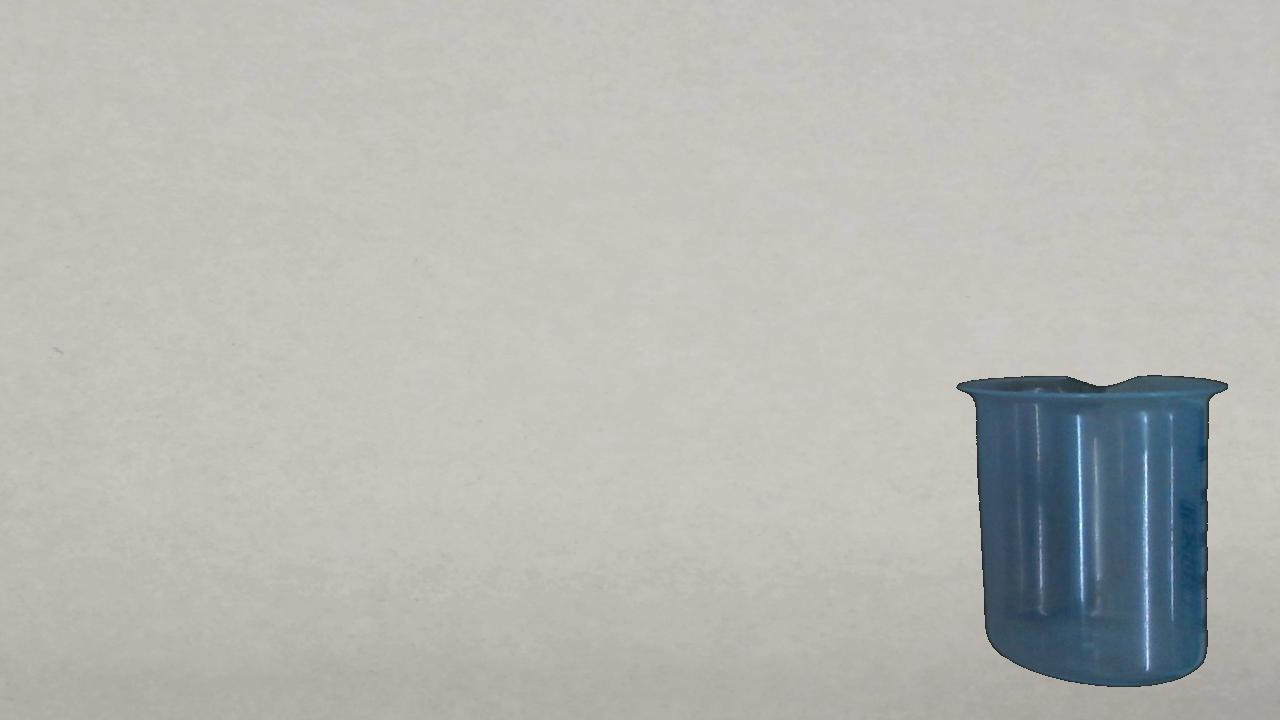becker: (953, 373, 1227, 688)
